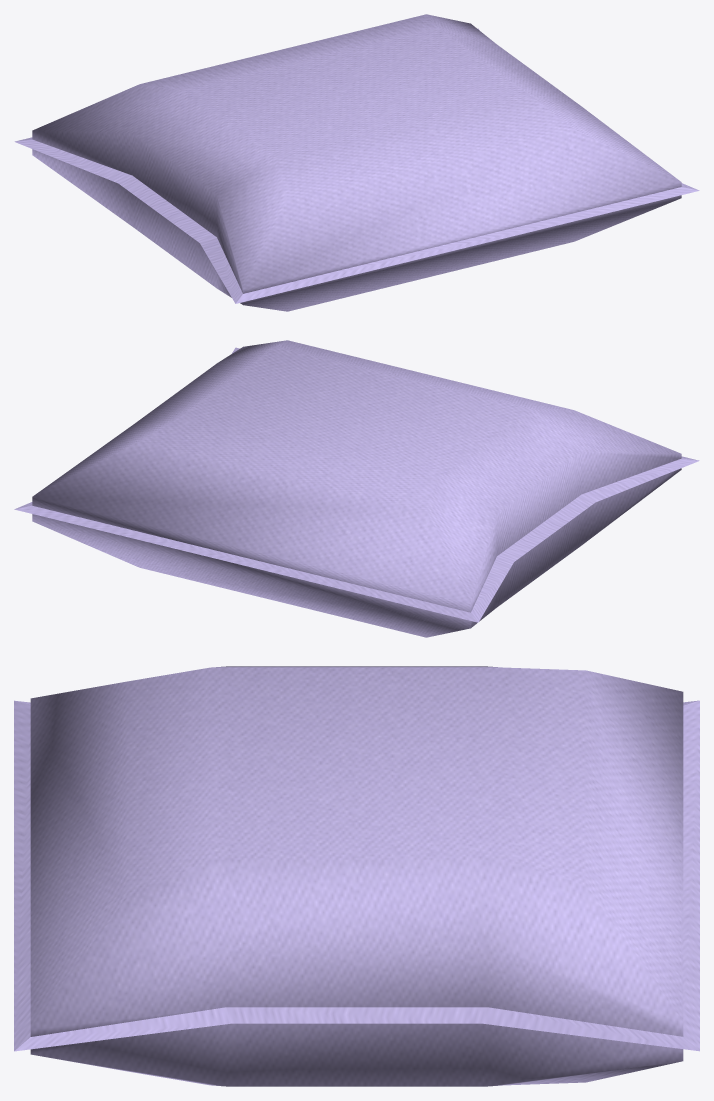
The model's file is T_Pillow_M2.FBX.
The picture shows the model from 3 angles, top to bottom: view 1: azimuth 30°, elevation 25°; view 2: azimuth 150°, elevation 25°; view 3: azimuth 270°, elevation 25°; orthographic projection. The views are drawn at different scales.
Parts seen in each view (by area): view 1: Throw_Pillow; view 2: Throw_Pillow; view 3: Throw_Pillow.
Boxes of the visible parts, x1,y1,x2,y2 form: Throw_Pillow: (14,14,699,311); Throw_Pillow: (14,340,699,637); Throw_Pillow: (14,666,699,1086).
Size of the model in its own units: 127 by 37.95 by 105.
